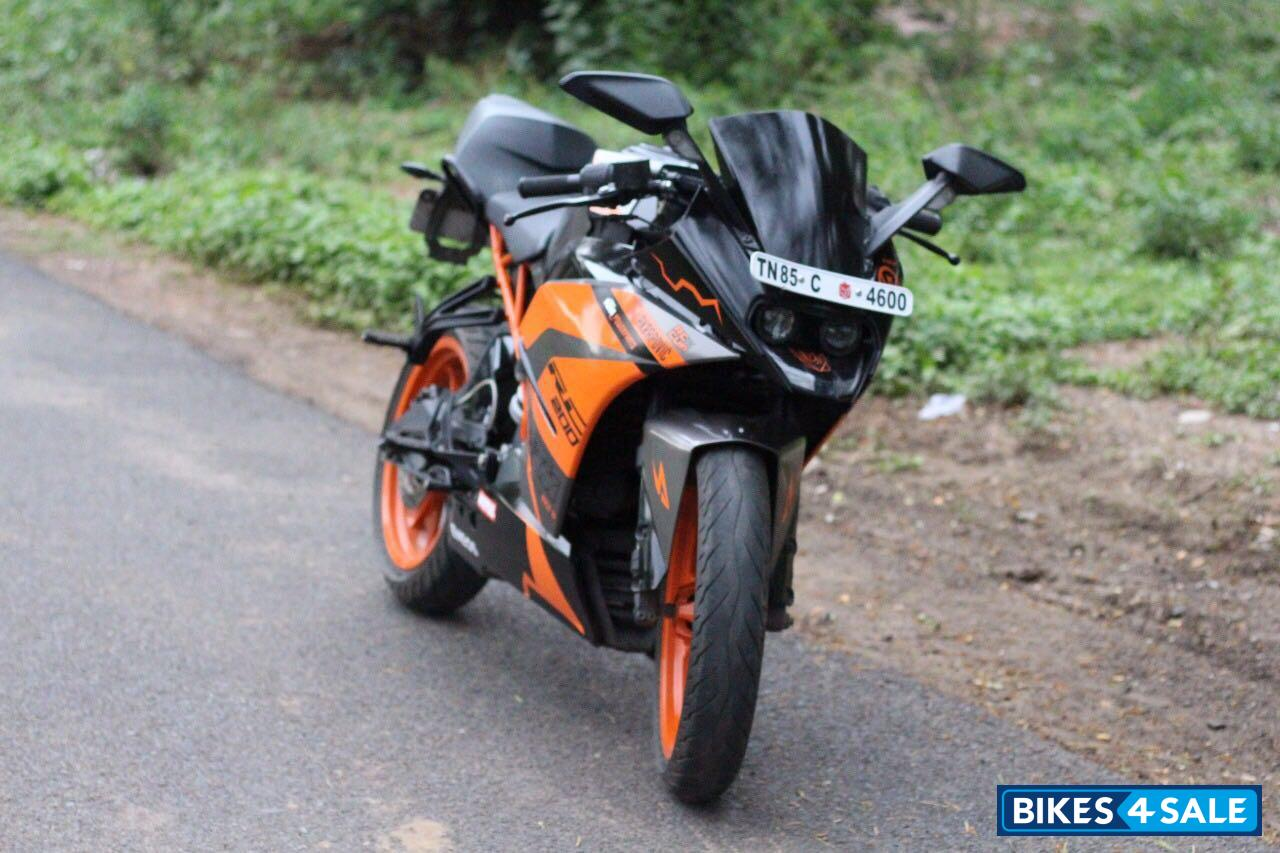numberplate: (744, 248, 918, 319)
